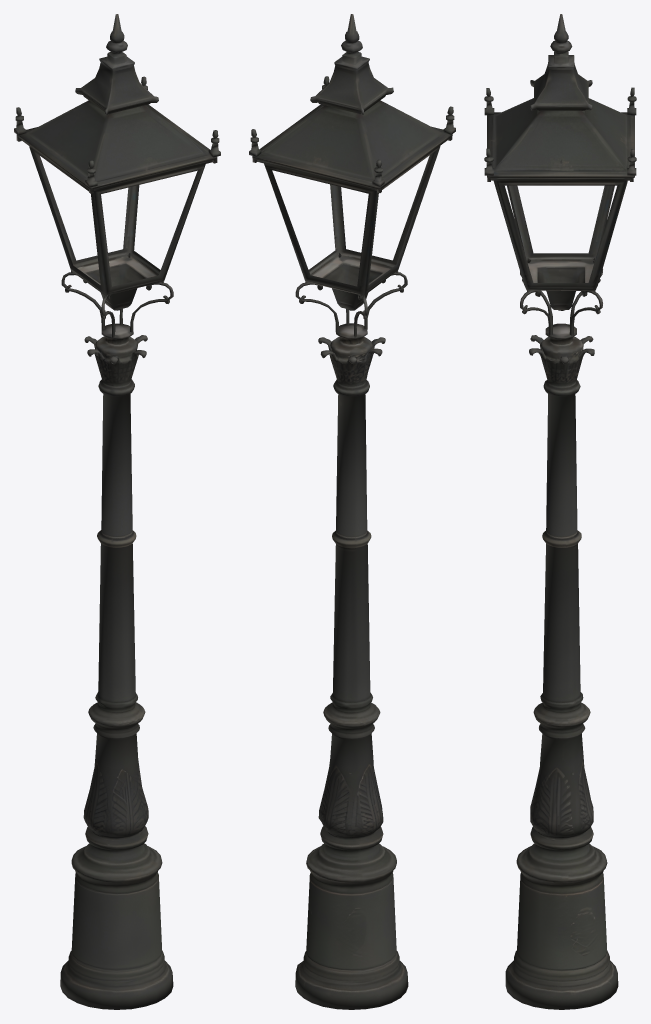
File: SM_Env_BaskervilleGardenGasLamp.fbx
The picture shows the model from 3 angles, left to right: view 1: azimuth 30°, elevation 25°; view 2: azimuth 150°, elevation 25°; view 3: azimuth 270°, elevation 25°; orthographic projection.
Visible parts, largest first — view 1: SM_Env_BaskervilleGardenGasLamp; view 2: SM_Env_BaskervilleGardenGasLamp; view 3: SM_Env_BaskervilleGardenGasLamp.
Boxes of the visible parts, x1,y1,x2,y2 form: SM_Env_BaskervilleGardenGasLamp: (14, 14, 220, 1009); SM_Env_BaskervilleGardenGasLamp: (249, 14, 455, 1009); SM_Env_BaskervilleGardenGasLamp: (484, 14, 636, 1009).
Size of the model in its own units: 11.09 by 11.09 by 78.
Materials: 1 (1 with a texture image).
